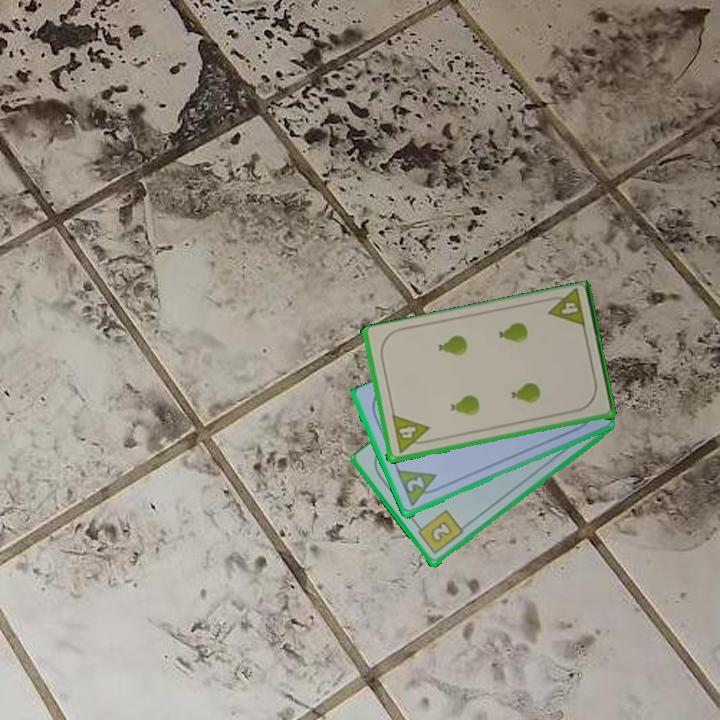2b: (412, 507, 466, 557)
2p: (393, 467, 444, 510)
4p: (542, 287, 588, 332), (388, 412, 433, 457)
